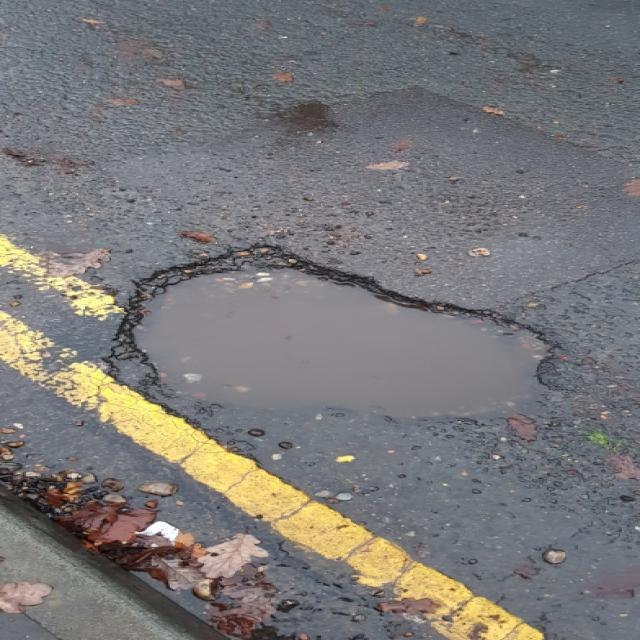Pothole: (101, 243, 576, 427)
